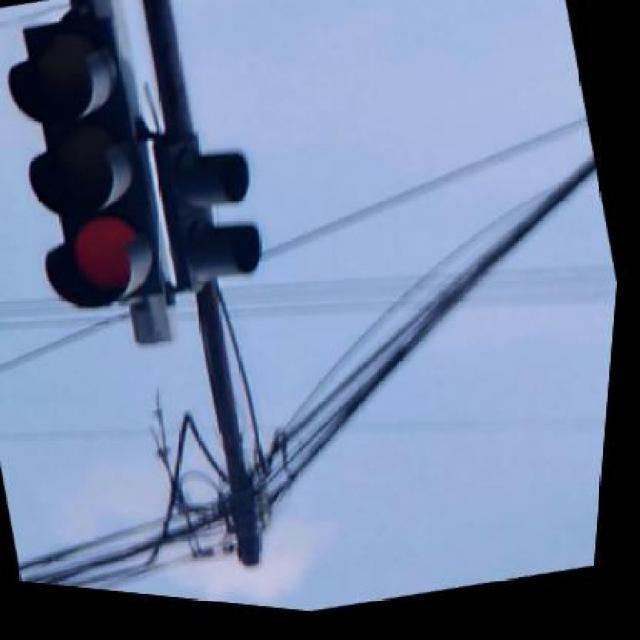red_light: (23, 0, 169, 341)
